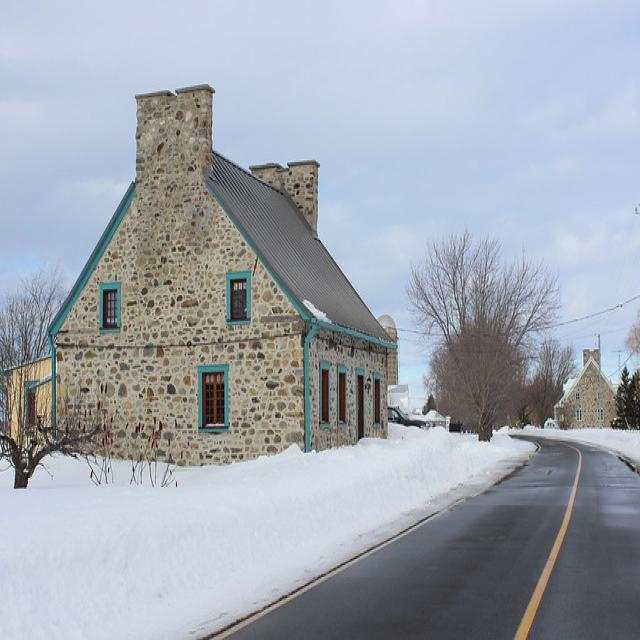Normal_building: (42, 78, 394, 468)
